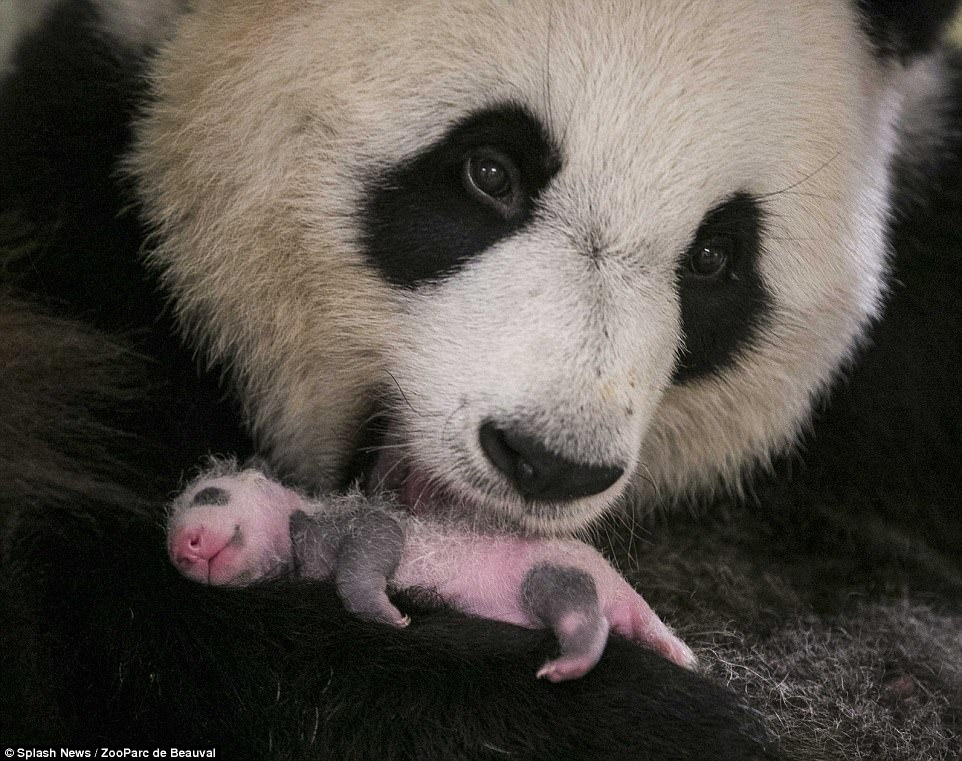panda: (117, 13, 869, 518)
